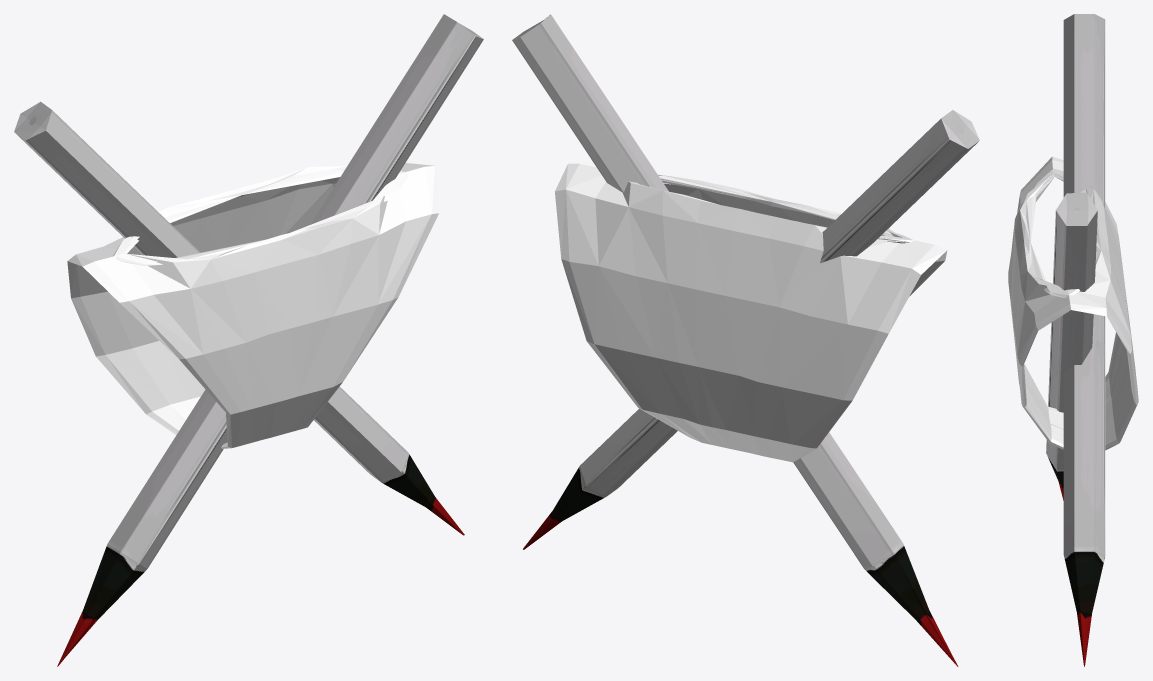
File: UndPens.glb
The picture shows the model from 3 angles, left to right: view 1: azimuth 30°, elevation 25°; view 2: azimuth 150°, elevation 25°; view 3: azimuth 270°, elevation 25°; orthographic projection. The views are drawn at different scales.
Visible parts, largest first — view 1: UndPens; view 2: UndPens; view 3: UndPens.
Part boxes in pixels (x1,y1,x2,y2): UndPens: (14,14,483,666); UndPens: (512,14,979,666); UndPens: (1008,14,1138,666).
Bounding box in the file's own units: 31.34 × 36.46 × 8.79.
1 material, 1 textured.
